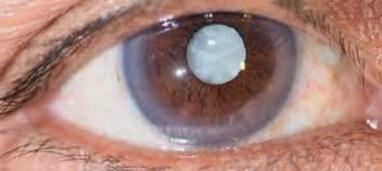eye: (125, 12, 296, 149)
